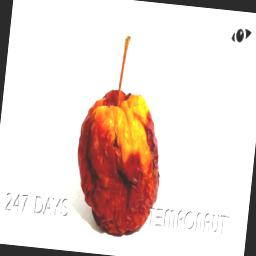Apple Rotten: (64, 12, 188, 240)
